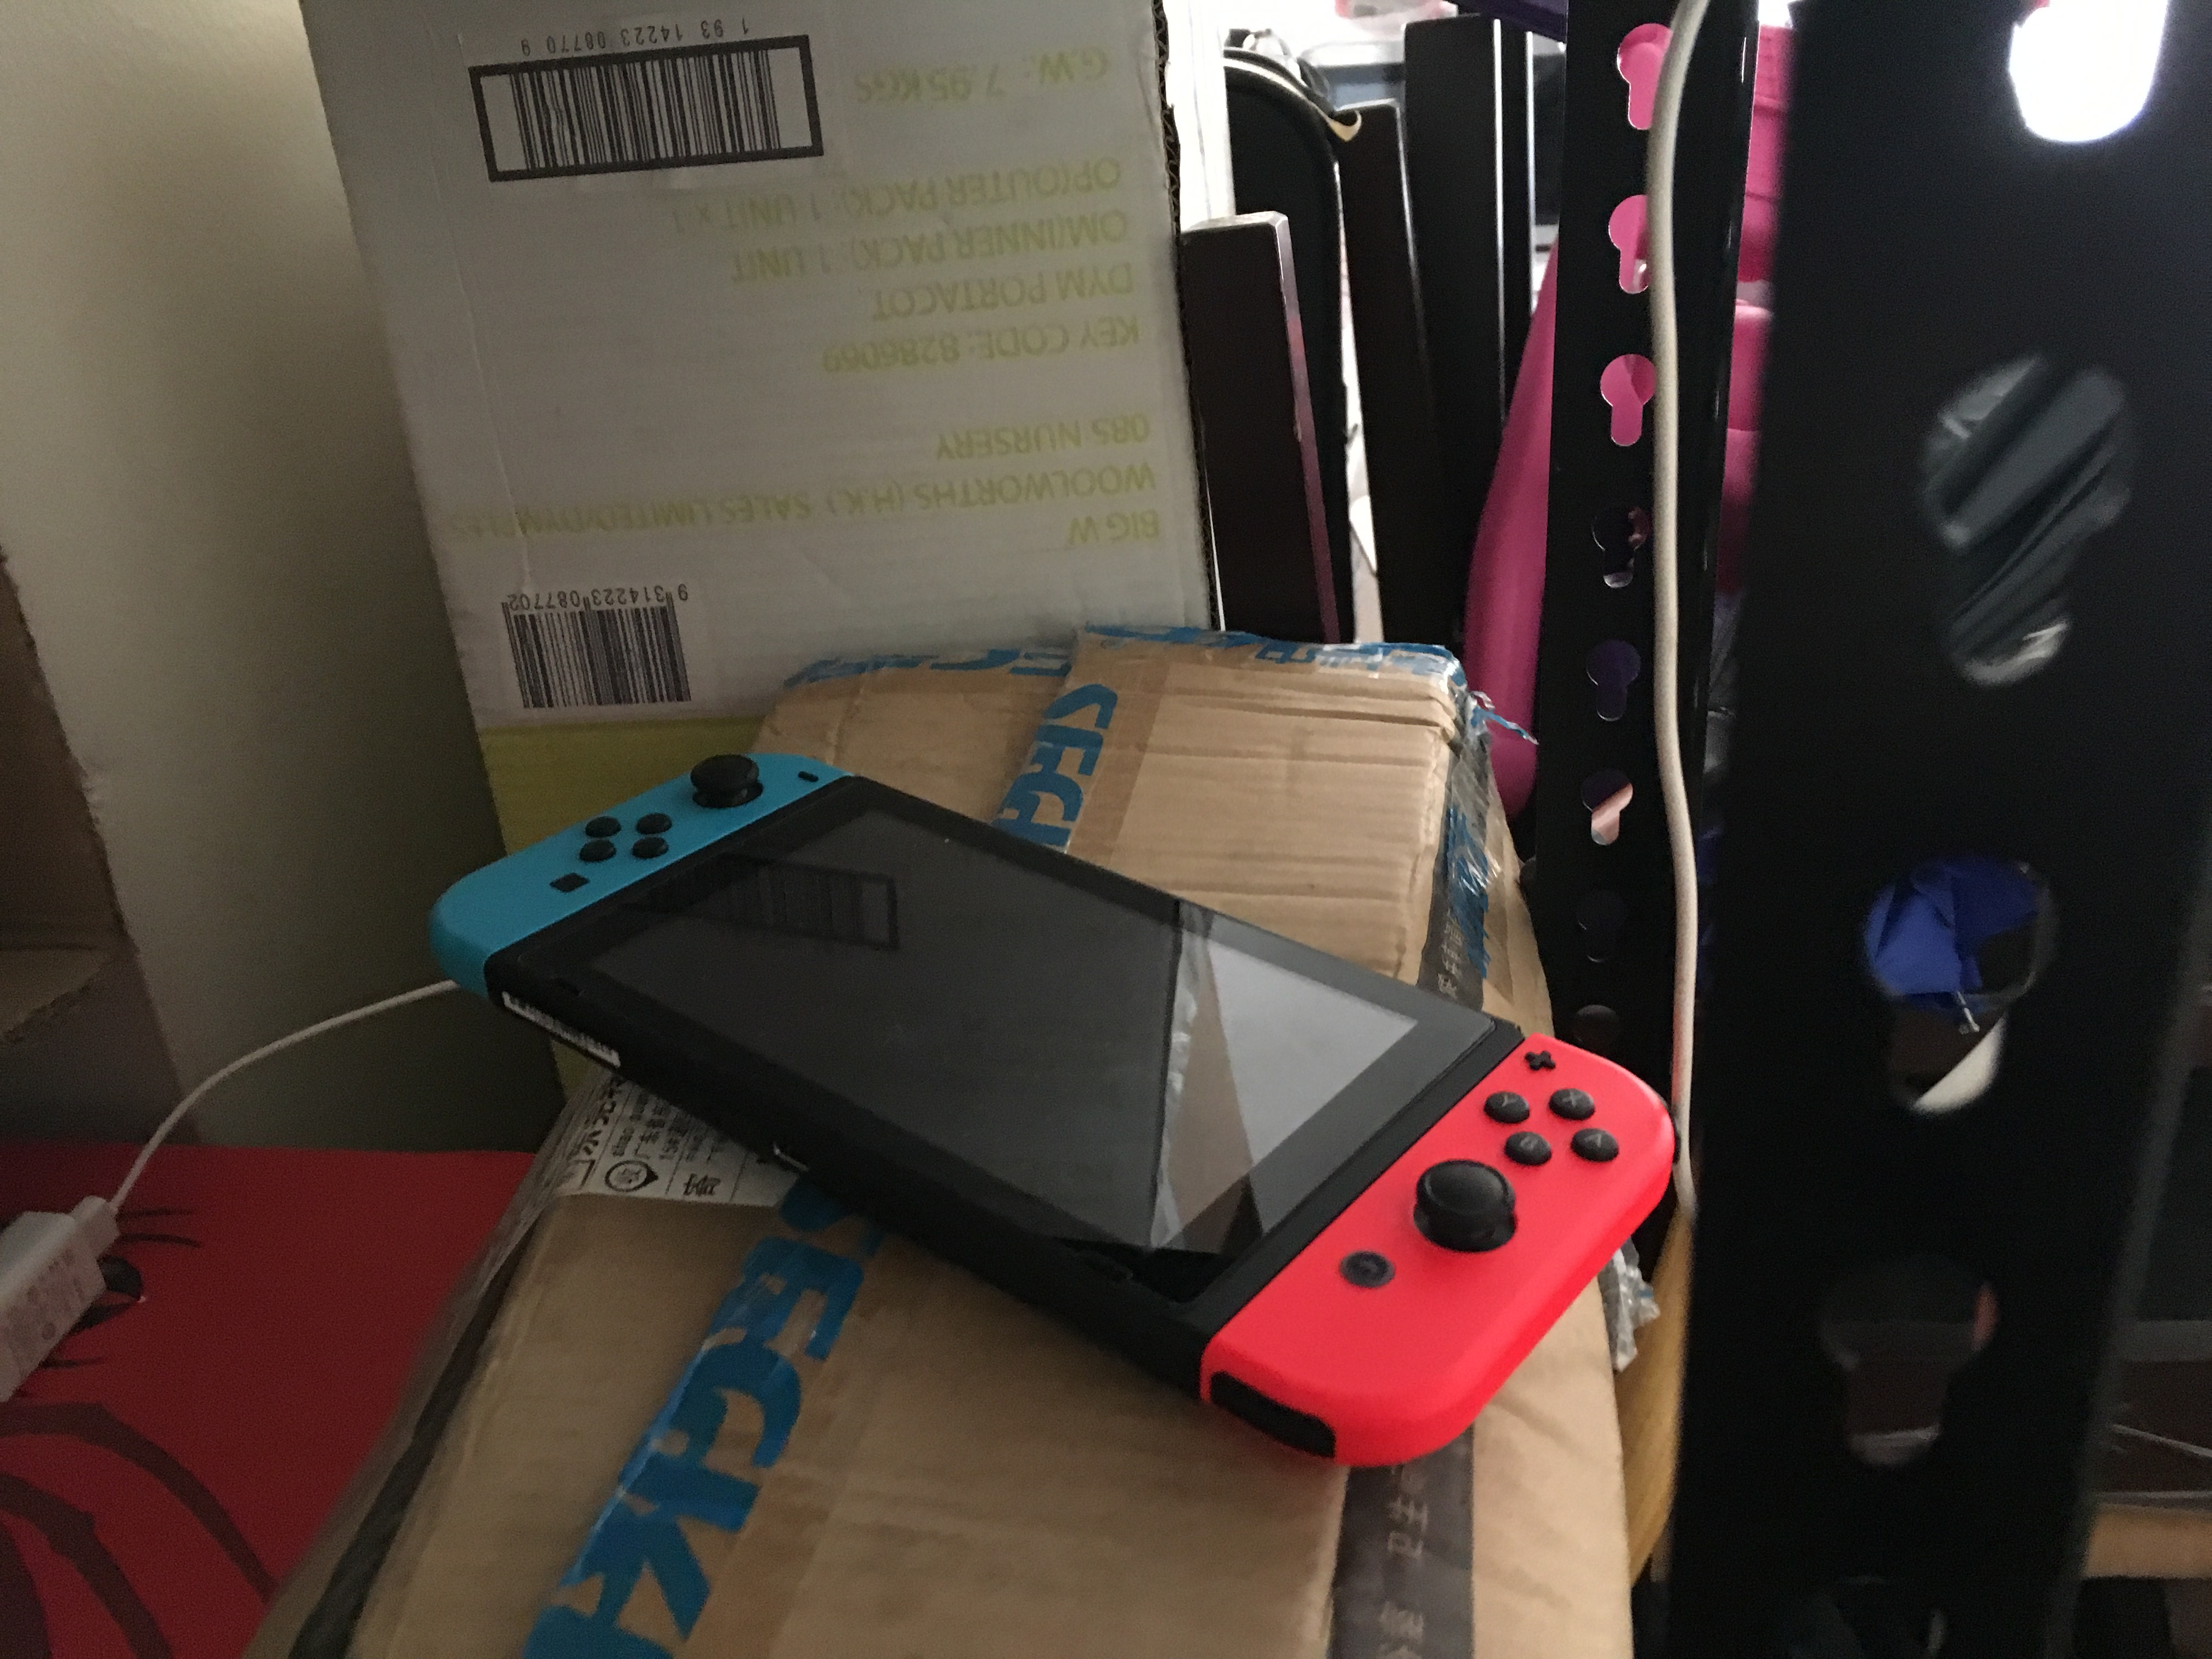NintendoSwitch: (420, 742, 1691, 1488)
